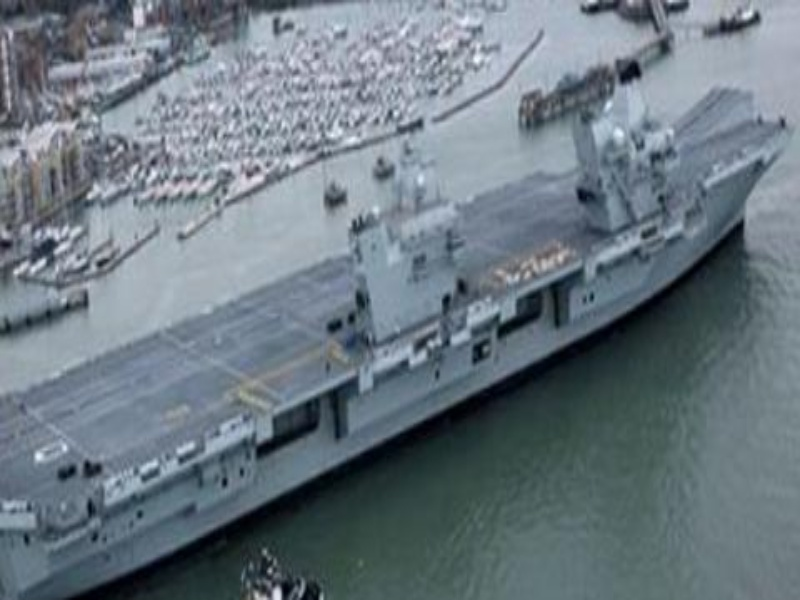boat: (231, 546, 313, 600)
carrier: (19, 104, 784, 521)
